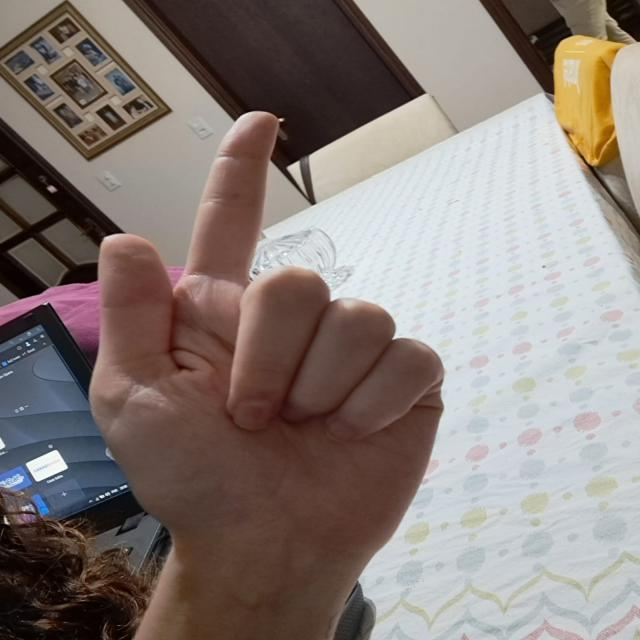G: (88, 89, 448, 528)
